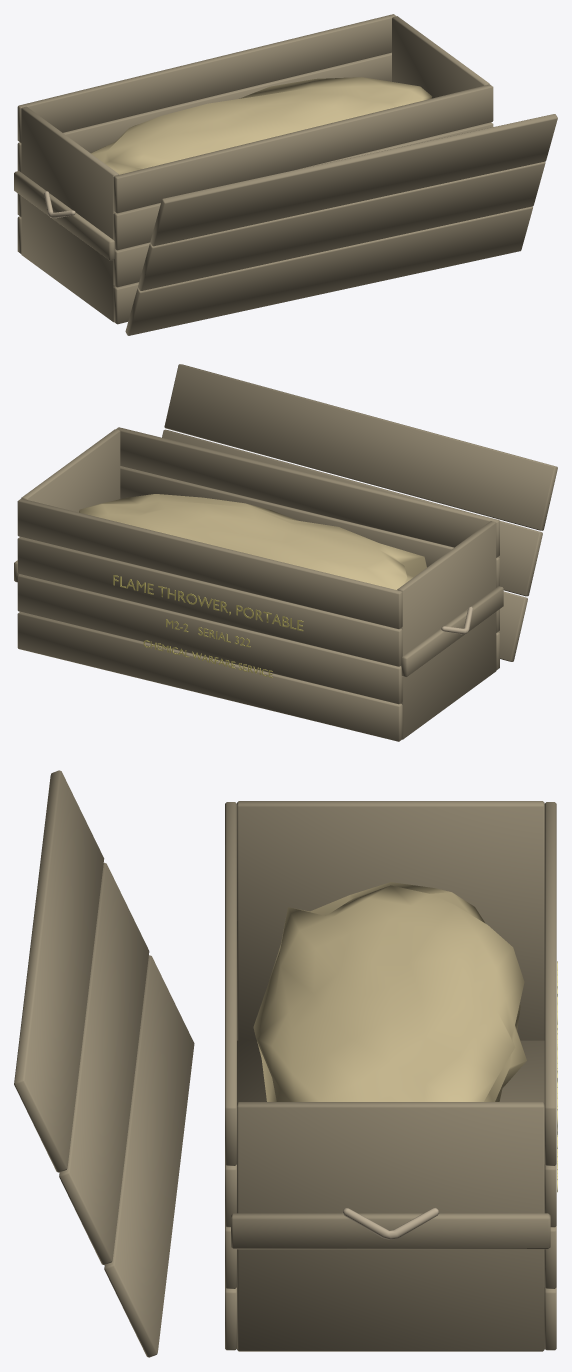
The model's file is flame_crate_open.glb.
3 views of the same model, one above another, from view 1: azimuth 30°, elevation 25°; view 2: azimuth 150°, elevation 25°; view 3: azimuth 270°, elevation 25° (orthographic). The views are drawn at different scales.
Visible parts, largest first — view 1: flame_crate_open; view 2: flame_crate_open; view 3: flame_crate_open.
Part boxes in pixels (bbox=[...]): flame_crate_open: bbox=[14, 14, 557, 335]; flame_crate_open: bbox=[14, 364, 557, 741]; flame_crate_open: bbox=[14, 770, 557, 1357].
Bounding box in the file's own units: 1.31 × 0.5041 × 0.9017.
